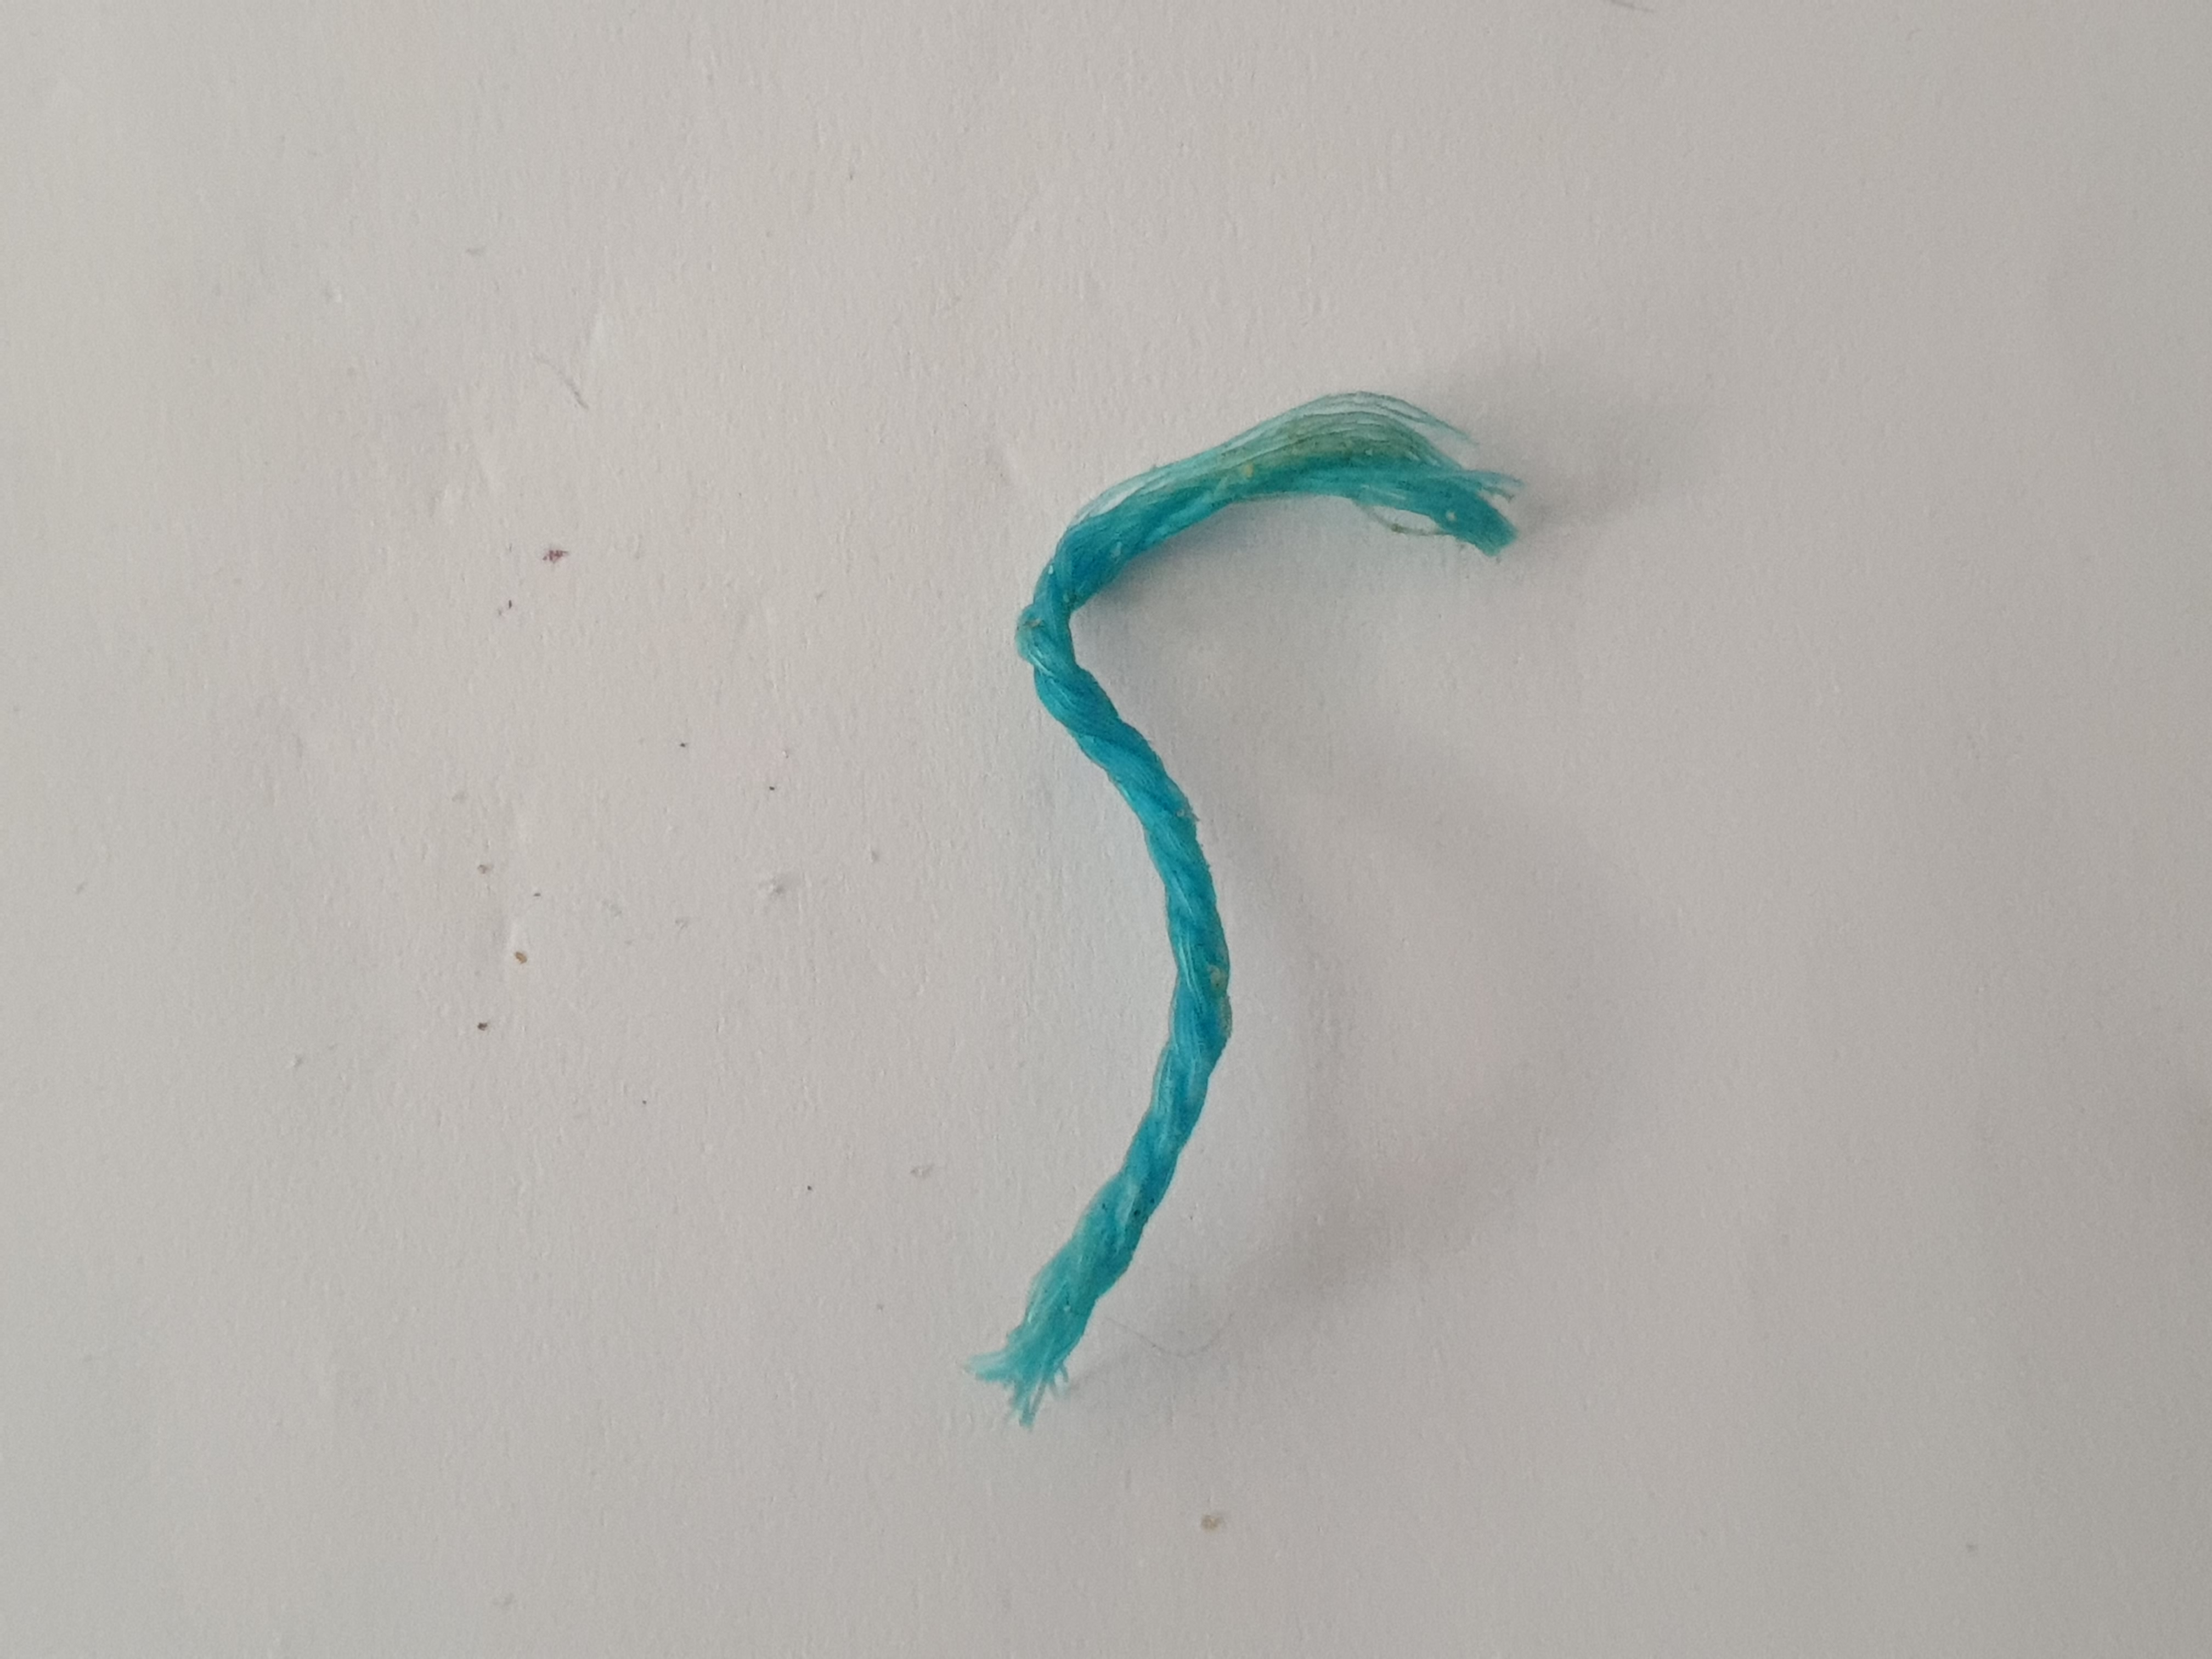thread: (881, 368, 1561, 1446)
